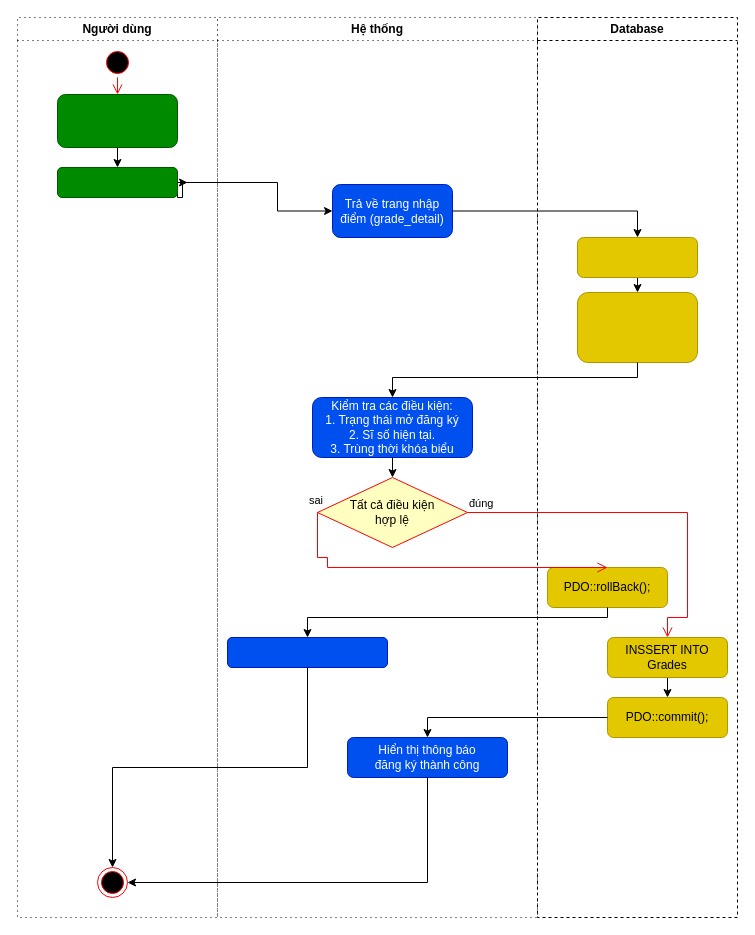
Image size: 755x935. Some labels were removed from this diagram. The shapes that lost their labels are listed below. From the top down, each one's centre as x and y in pixels, then its label:
the point at 117,121: Xem danh sách học phần
the point at 117,182: Yêu cầu đăng ký
the point at 637,257: Khởi tạo Transaction
the point at 637,327: Tạm Khoá bản ghi "...FOR UPDATE" (tránh sửa đổi khi đang thực hiện Transaction)
the point at 307,652: Hiển thị thông báo lỗi
